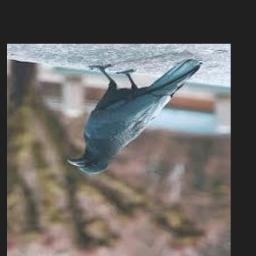Crow: (67, 59, 204, 175)
